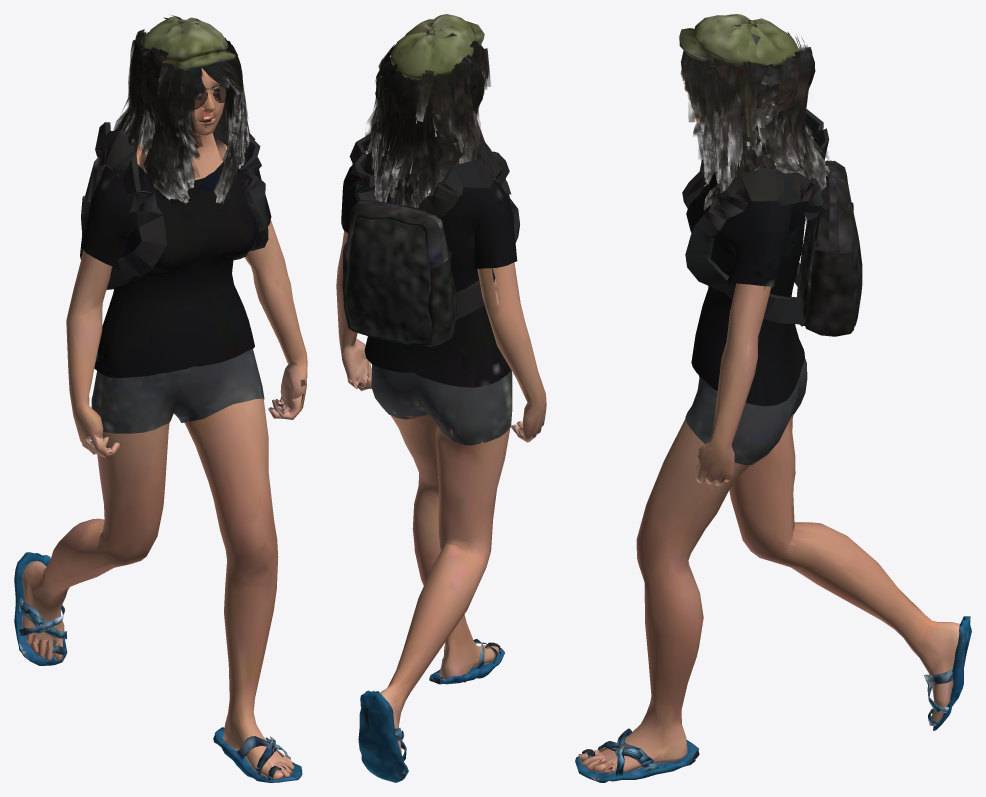
The picture shows the model from 3 angles, left to right: view 1: azimuth 30°, elevation 25°; view 2: azimuth 150°, elevation 25°; view 3: azimuth 270°, elevation 25°; orthographic projection. The views are drawn at different scales.
Parts seen in each view (by area): view 1: p02163; view 2: p02163; view 3: p02163.
Boxes of the visible parts, x1=… form: p02163: x1=14, y1=15, x2=307, y2=782; p02163: x1=336, y1=14, x2=546, y2=782; p02163: x1=575, y1=14, x2=971, y2=782.
Bounding box in the file's own units: 0.5128 × 1.58 × 0.7647.
Materials: 1 (1 with a texture image).
